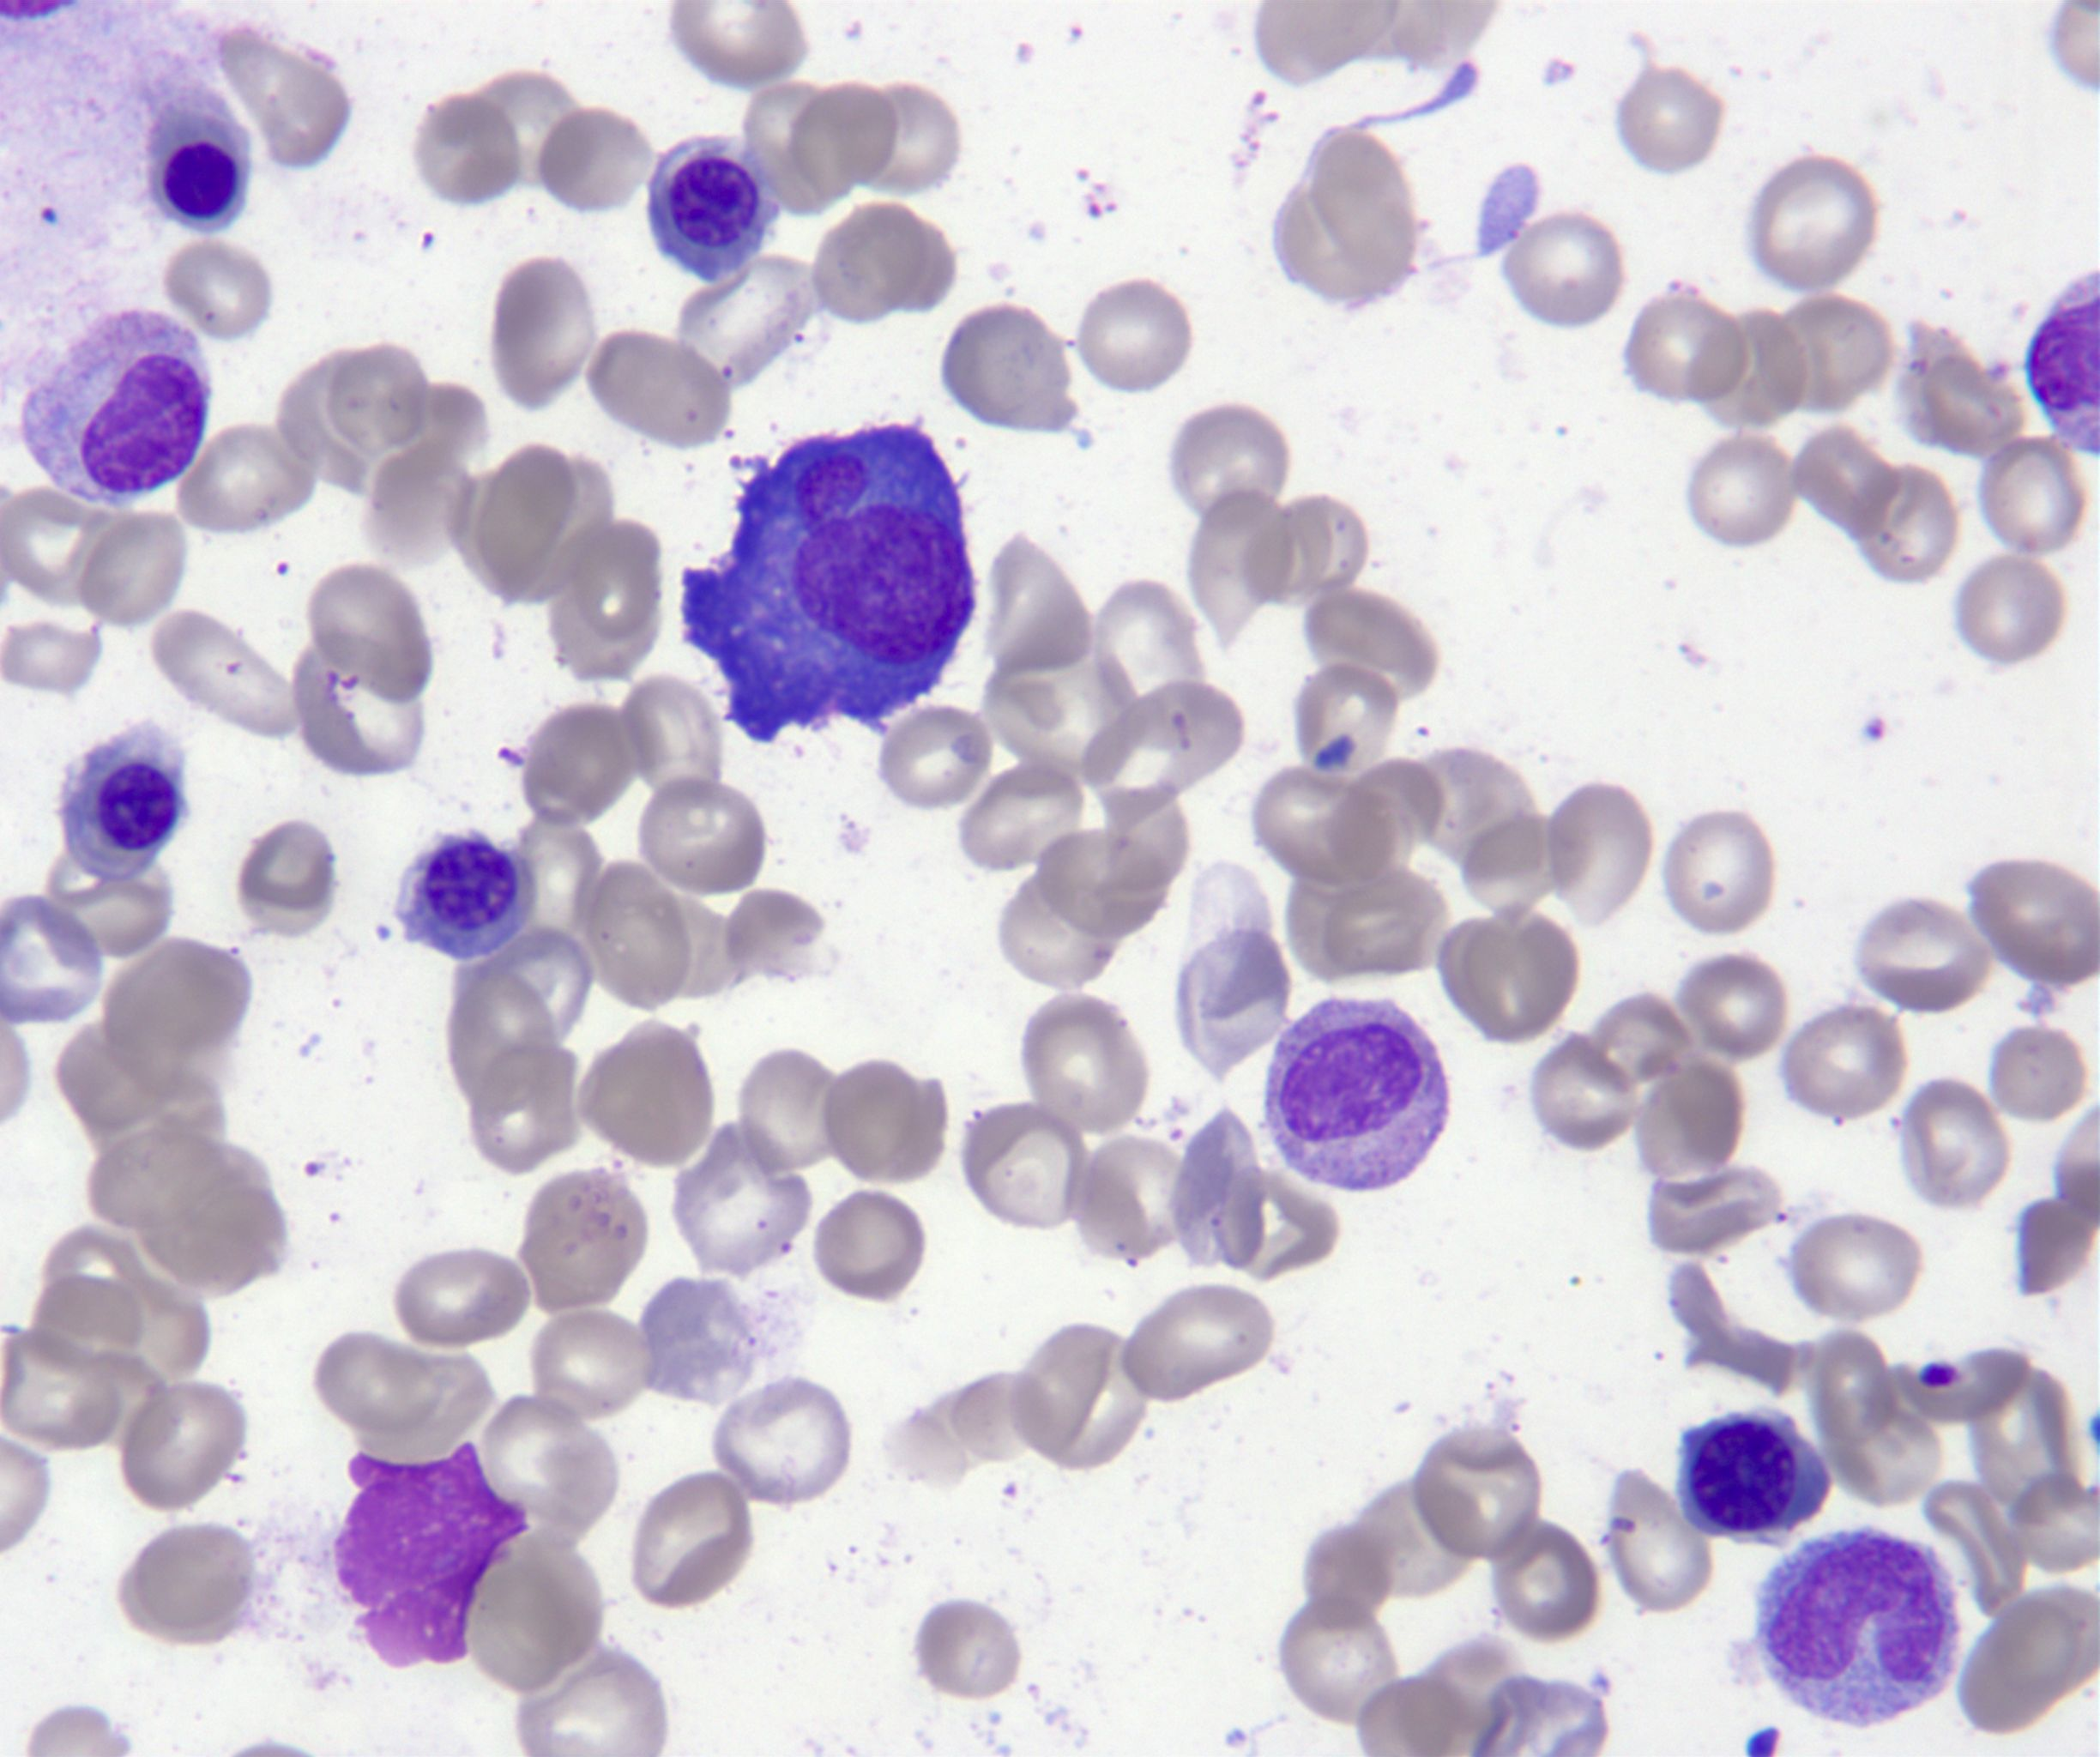24: (1678, 1401, 1830, 1542), (647, 136, 778, 284), (59, 721, 181, 878), (399, 831, 539, 956), (148, 105, 251, 234)
3: (1265, 1000, 1448, 1190)
4: (23, 309, 213, 499)
42: (1758, 1528, 1960, 1722)
52: (682, 424, 977, 740)
x: (337, 1443, 527, 1666)
